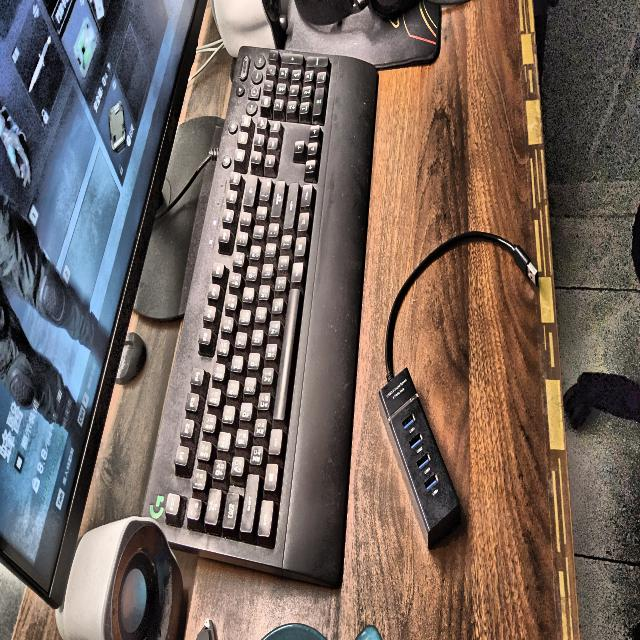HUB: (379, 231, 538, 548)
Keyboard: (142, 47, 377, 587)
Screen: (0, 0, 205, 607)
